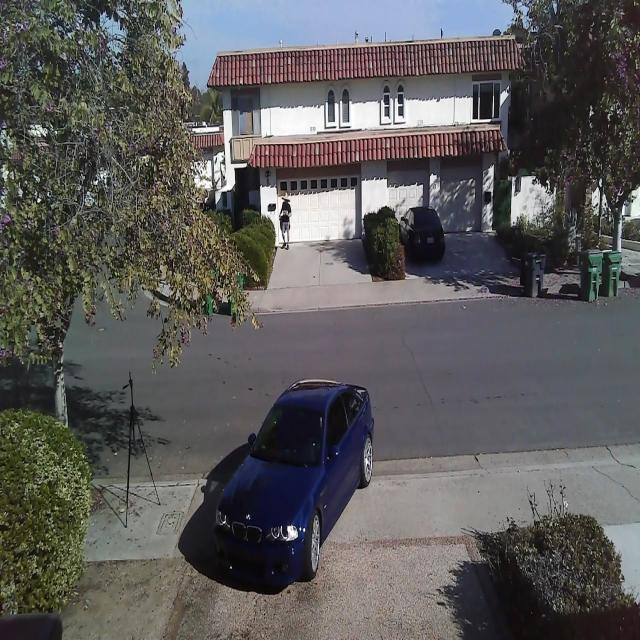Carbeetle: (211, 371, 378, 596)
Civilian: (399, 205, 445, 263)
